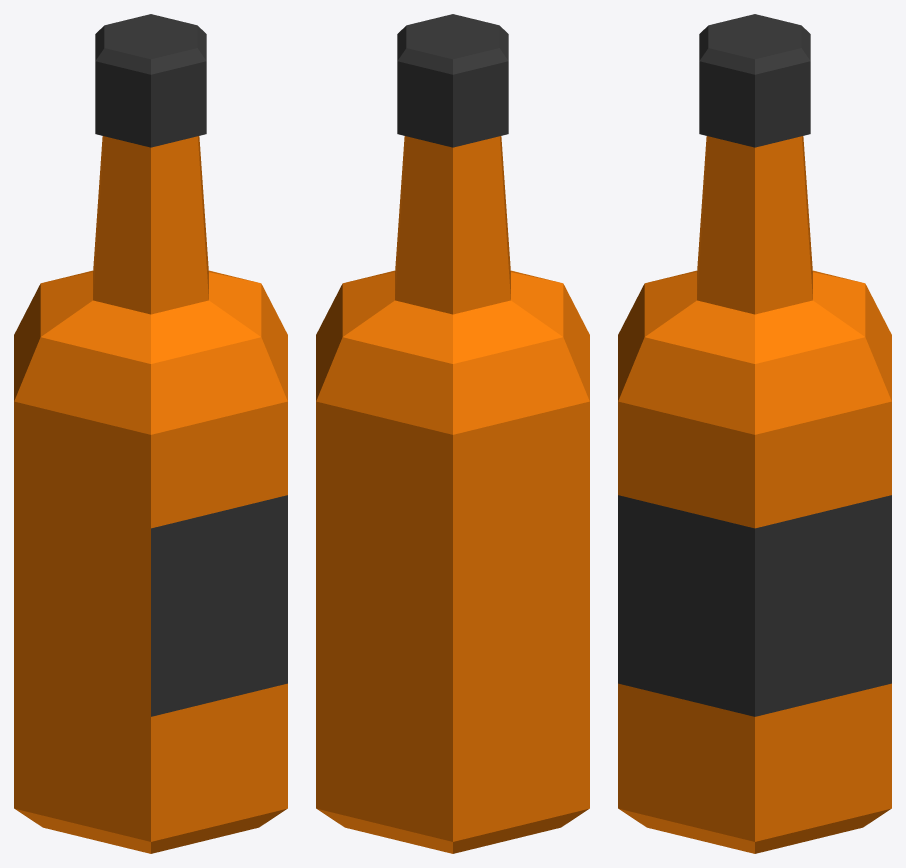
File: model_bottle_02.fbx
3 views of the same model, side by side, from view 1: azimuth 30°, elevation 25°; view 2: azimuth 150°, elevation 25°; view 3: azimuth 270°, elevation 25° (orthographic).
Parts seen in each view (by area): view 1: model_bottle_02; view 2: model_bottle_02; view 3: model_bottle_02.
Part boxes in pixels (x1,y1,x2,y2): model_bottle_02: (14, 14, 287, 853); model_bottle_02: (316, 14, 589, 853); model_bottle_02: (618, 14, 891, 853).
Size of the model in its own units: 14.88 by 39.71 by 12.88.
1 material, 1 textured.
